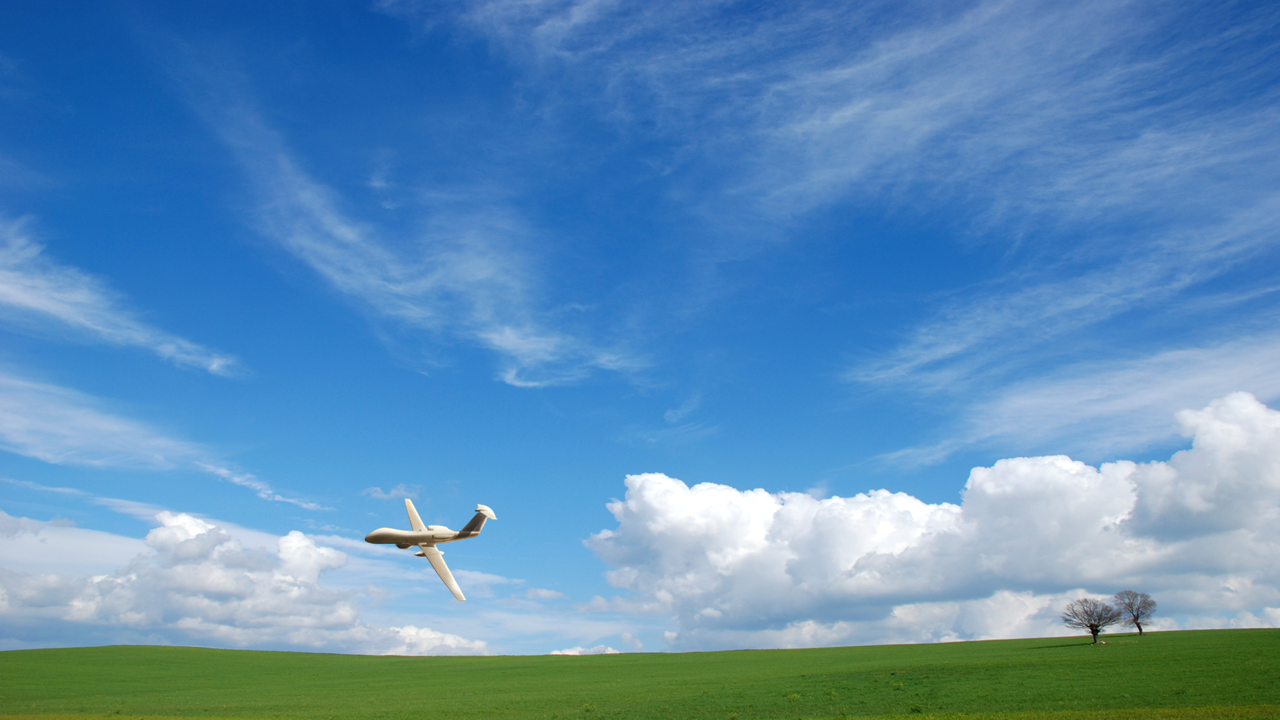military drone: (364, 498, 497, 600)
